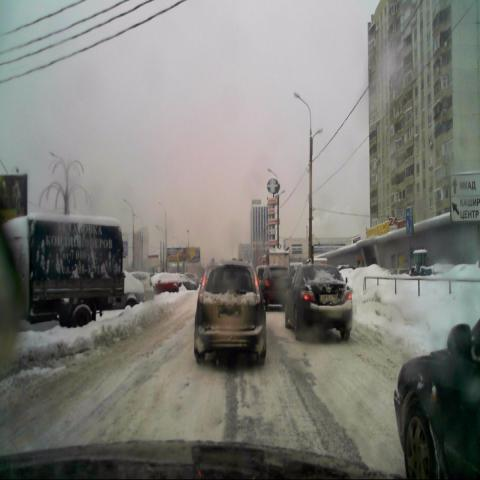5_21: (406, 205, 415, 238)
